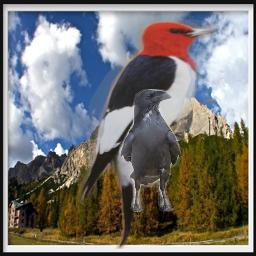Crow: (119, 89, 182, 212)
Woodpecker: (78, 19, 220, 249)
